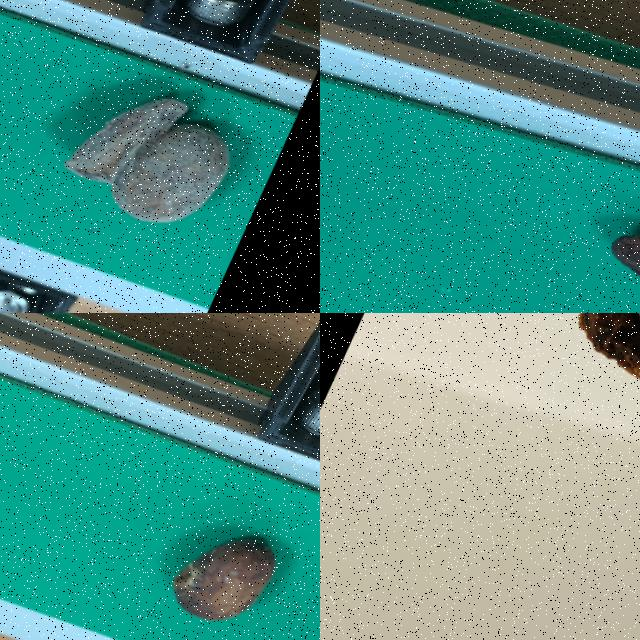Agglomerated_cocoabeans: (0, 1, 316, 312)
Fine_cocoabeans: (85, 458, 319, 639)
Flat_cocoabeans: (457, 313, 639, 555), (492, 137, 639, 312)
